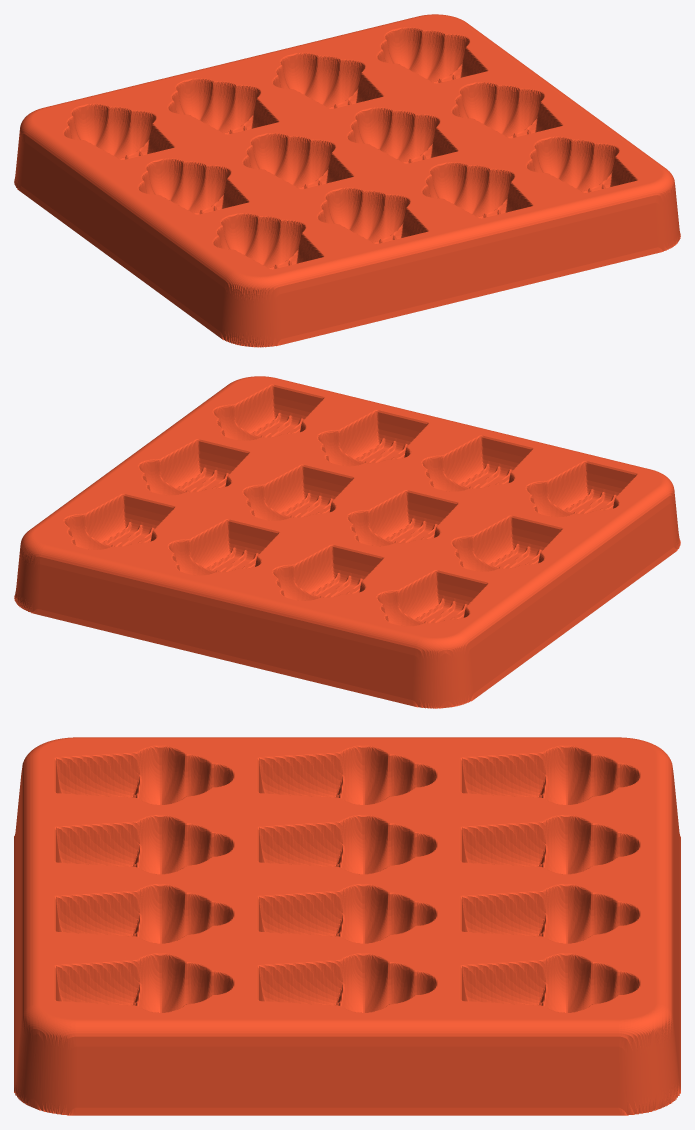
Rendered from mold.glb.
3 views of the same model, one above another, from view 1: azimuth 30°, elevation 25°; view 2: azimuth 150°, elevation 25°; view 3: azimuth 270°, elevation 25° (orthographic). The views are drawn at different scales.
Visible parts, largest first — view 1: geometry_0; view 2: geometry_0; view 3: geometry_0.
Part boxes in pixels (x1,y1,x2,y2): geometry_0: [14, 14, 680, 347]; geometry_0: [14, 376, 680, 708]; geometry_0: [14, 737, 680, 1115].
Bounding box in the file's own units: 0.103 × 0.0136 × 0.0963.
